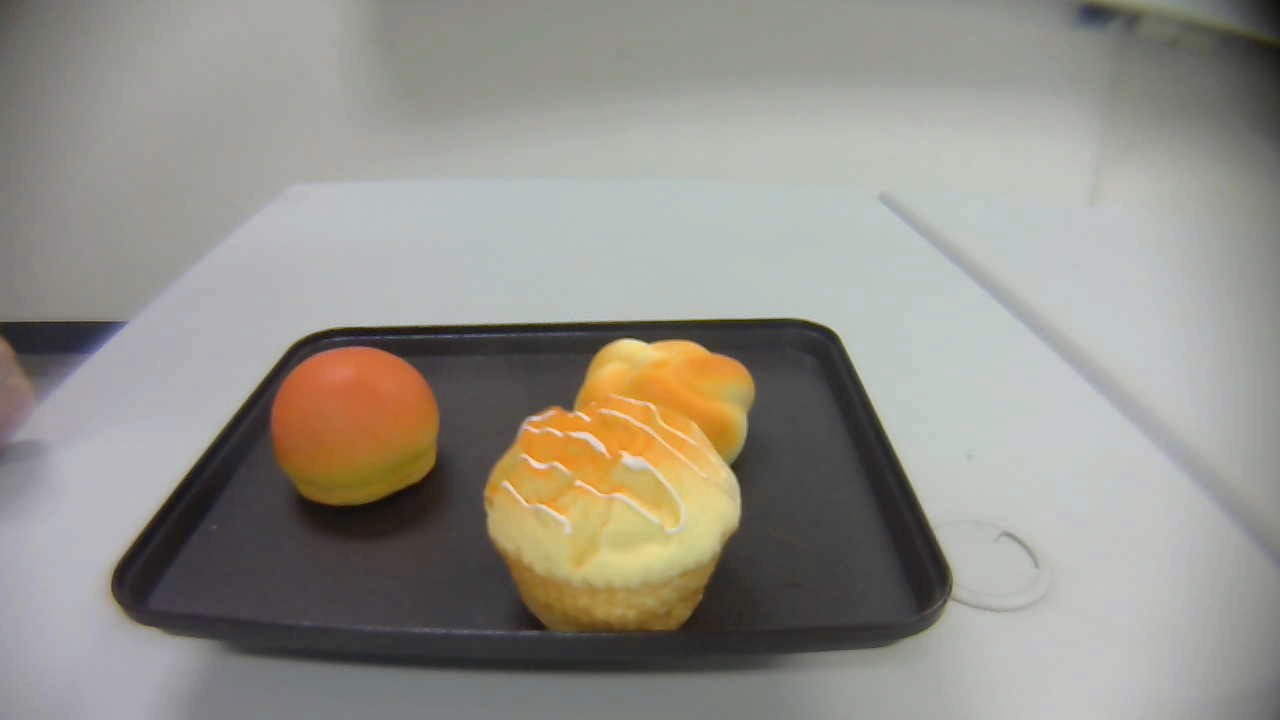bun: (269, 345, 440, 507)
cupcake: (483, 397, 740, 635)
twist bread: (574, 337, 755, 469)
